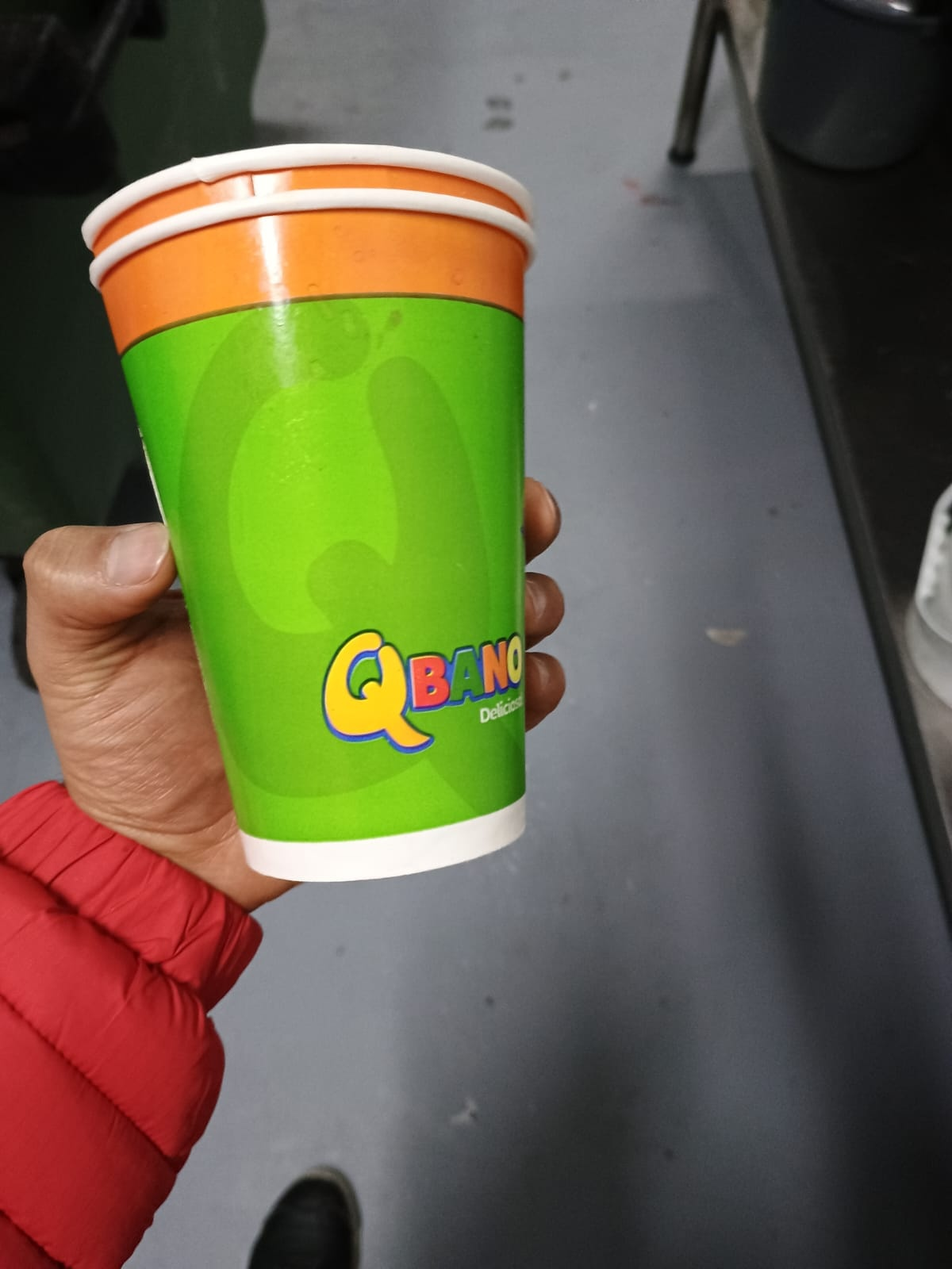Carton: (83, 142, 531, 883)
